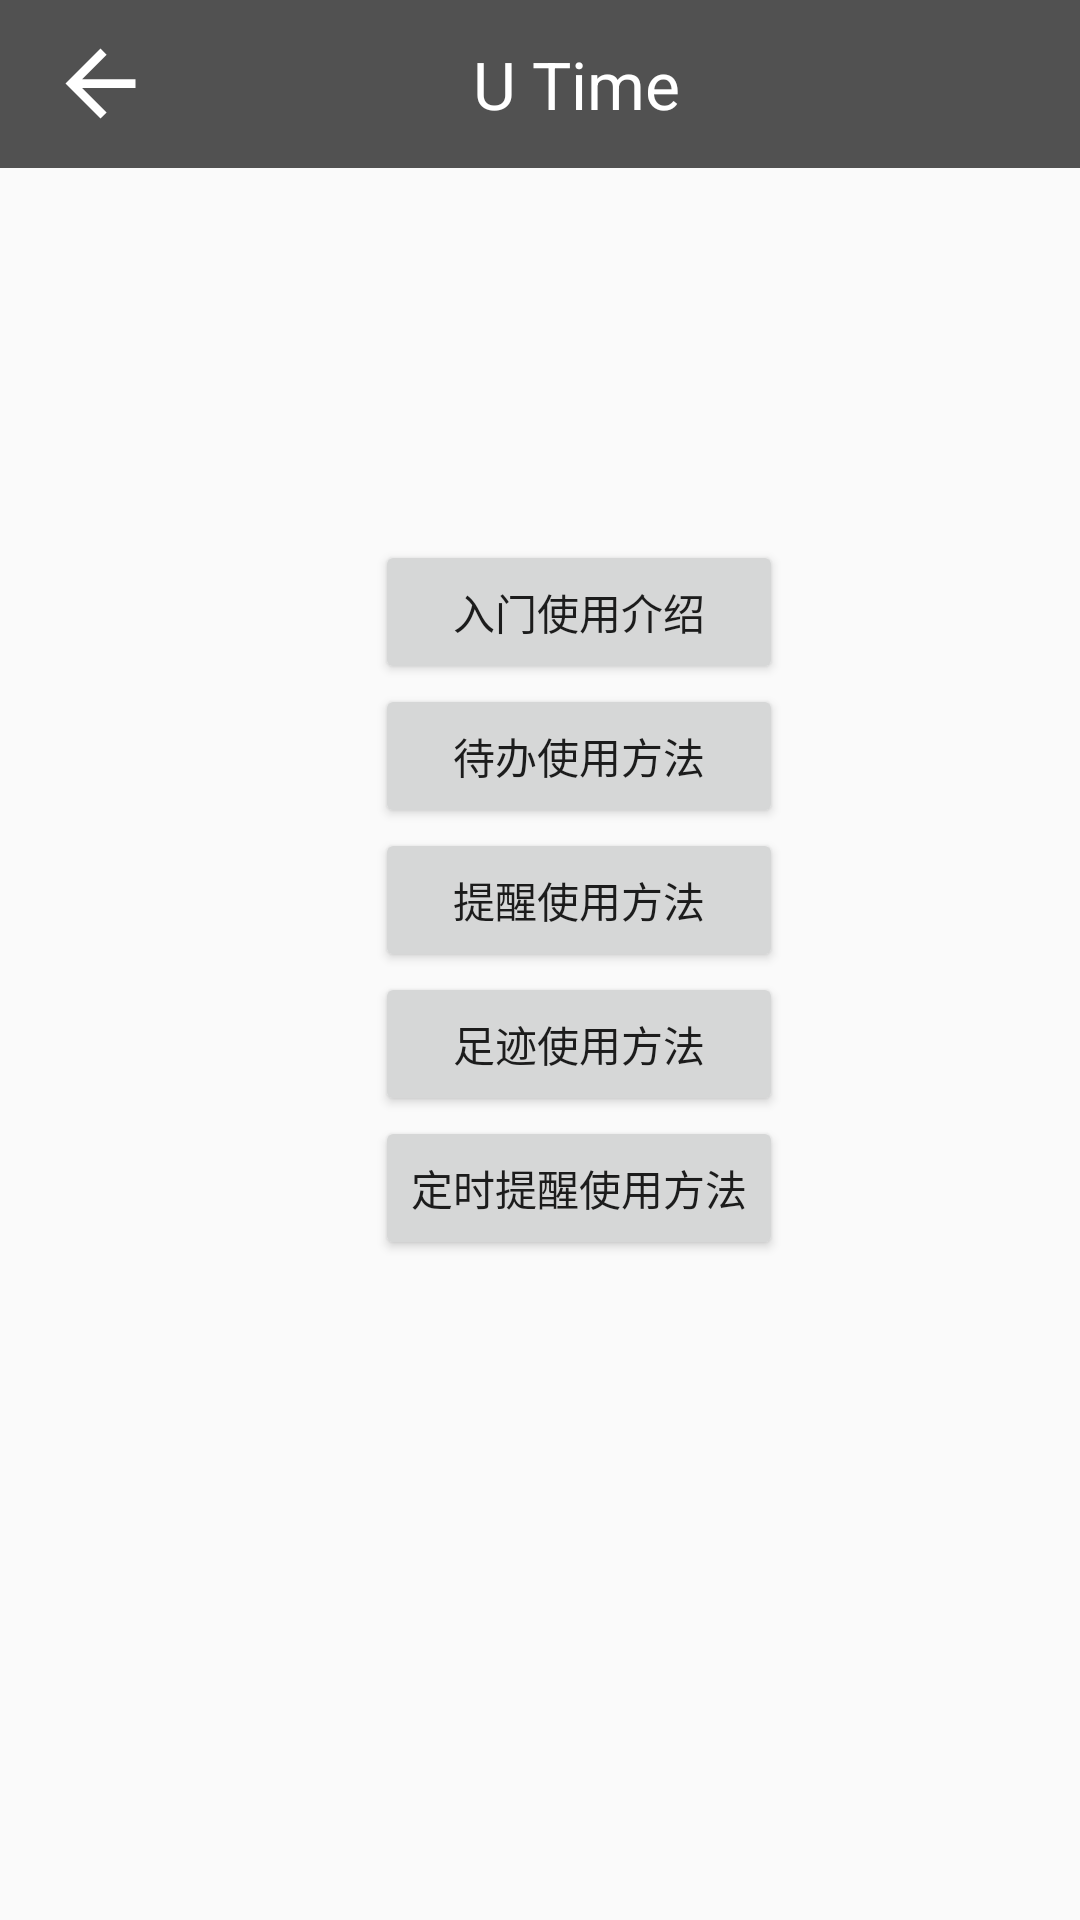

Screen size 1080w x 1920h. Icon name, then its center in pixels as [x,y]:
back: [100,83]
